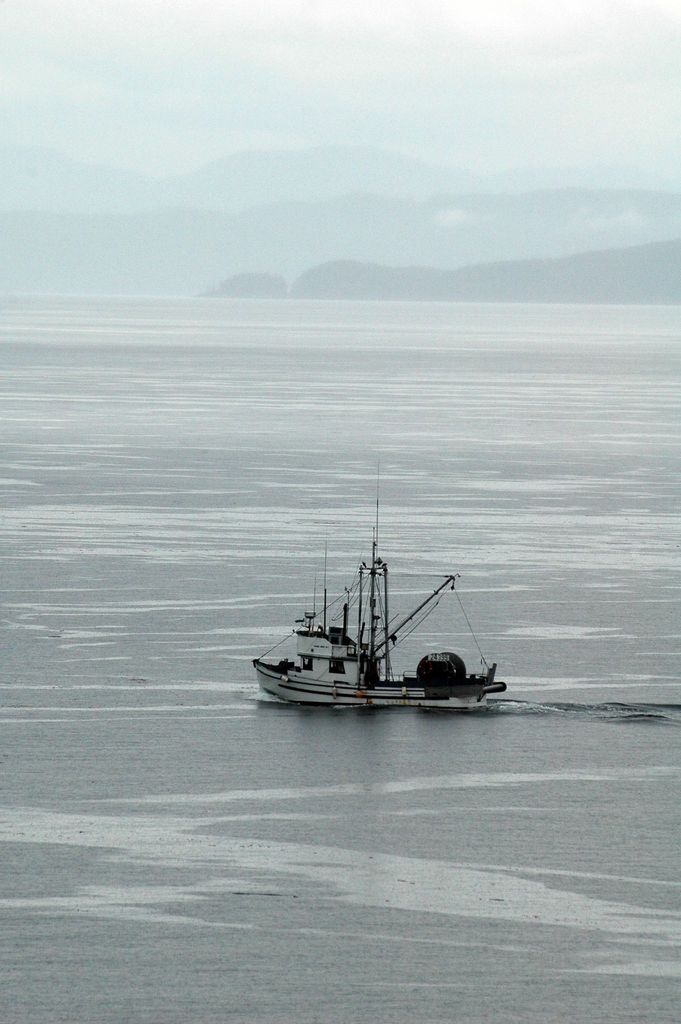boat: (189, 435, 551, 735)
